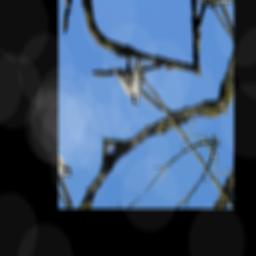Swallow: (109, 45, 160, 109)
